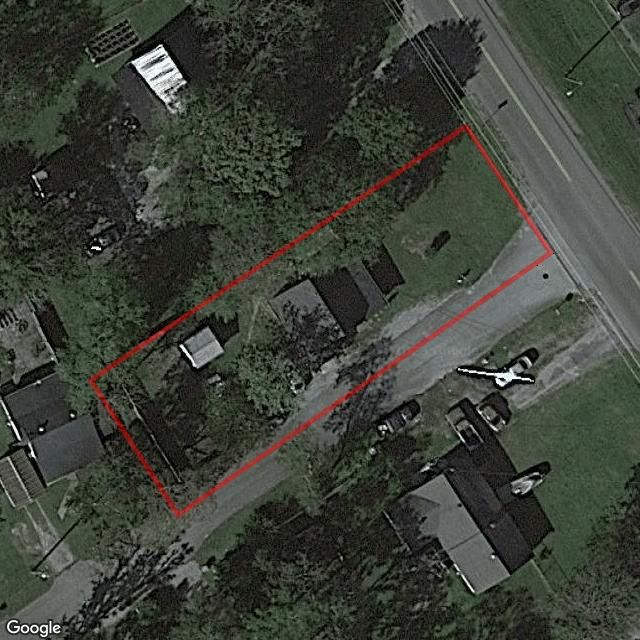Driveway: (272, 220, 546, 443)
House: (267, 248, 391, 363)
Other: (179, 326, 224, 368)
